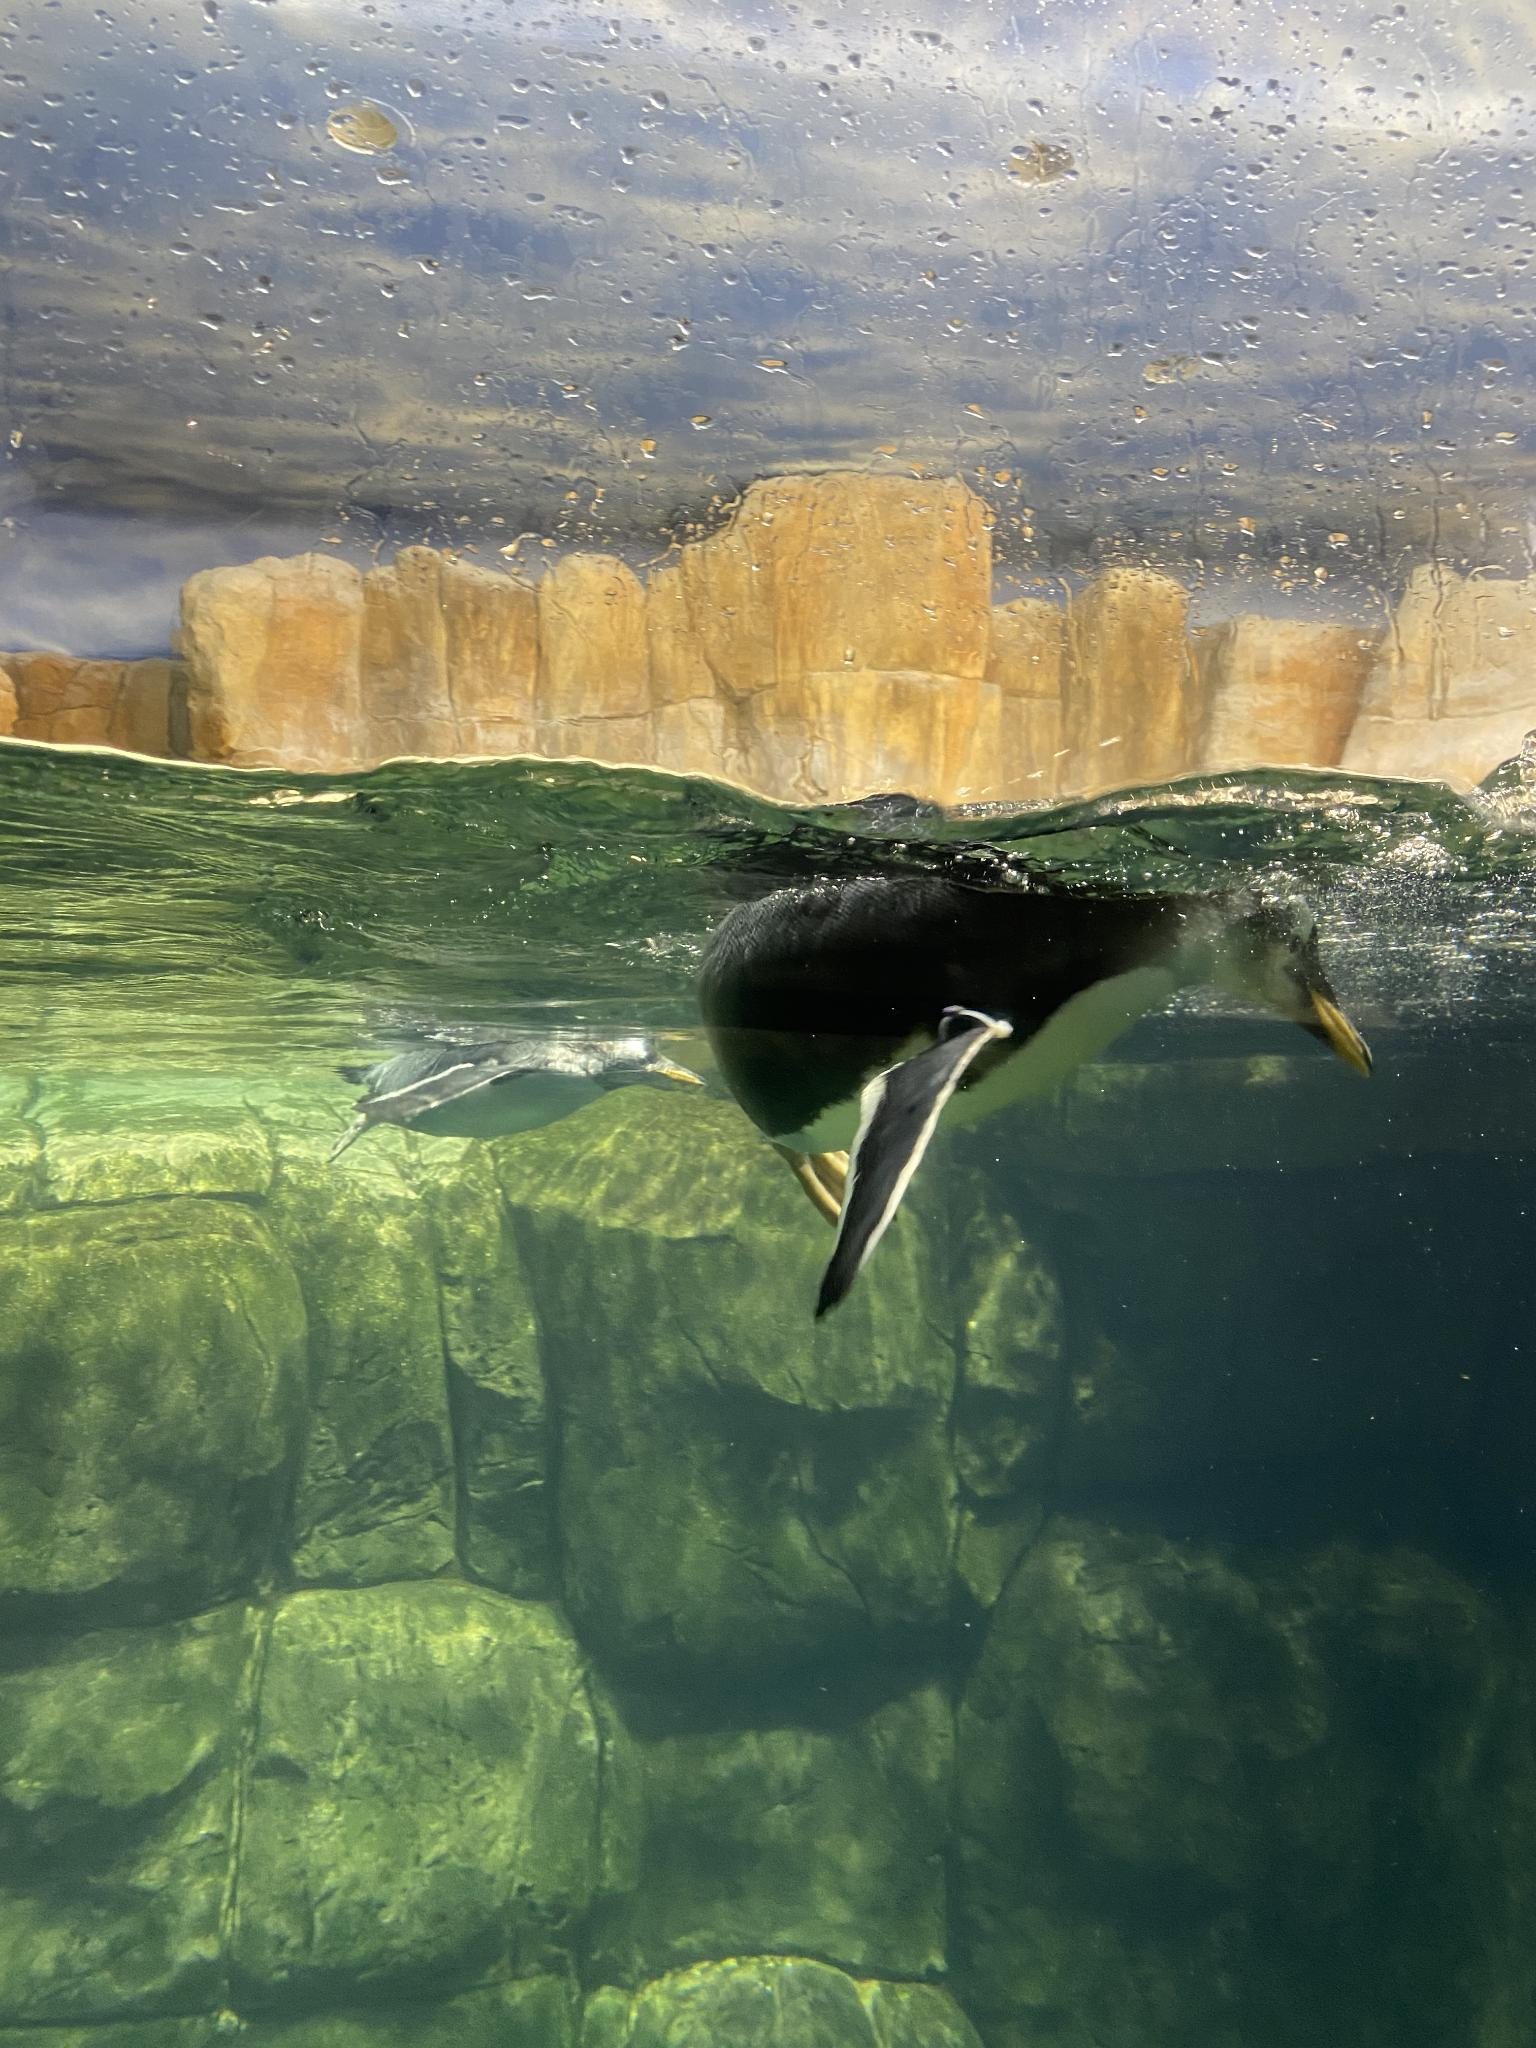penguin: (689, 814, 1371, 1205), (323, 1018, 695, 1147)
